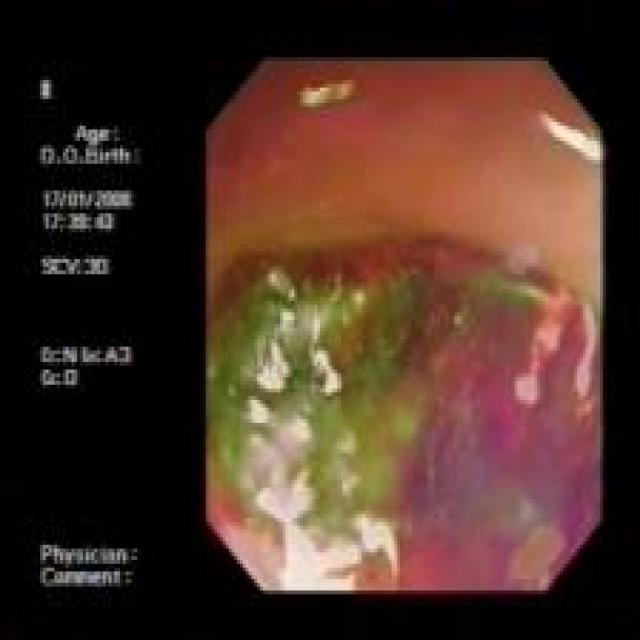color misalignment: (206, 226, 601, 591), (36, 77, 149, 592)
specularity: (538, 111, 602, 162)
